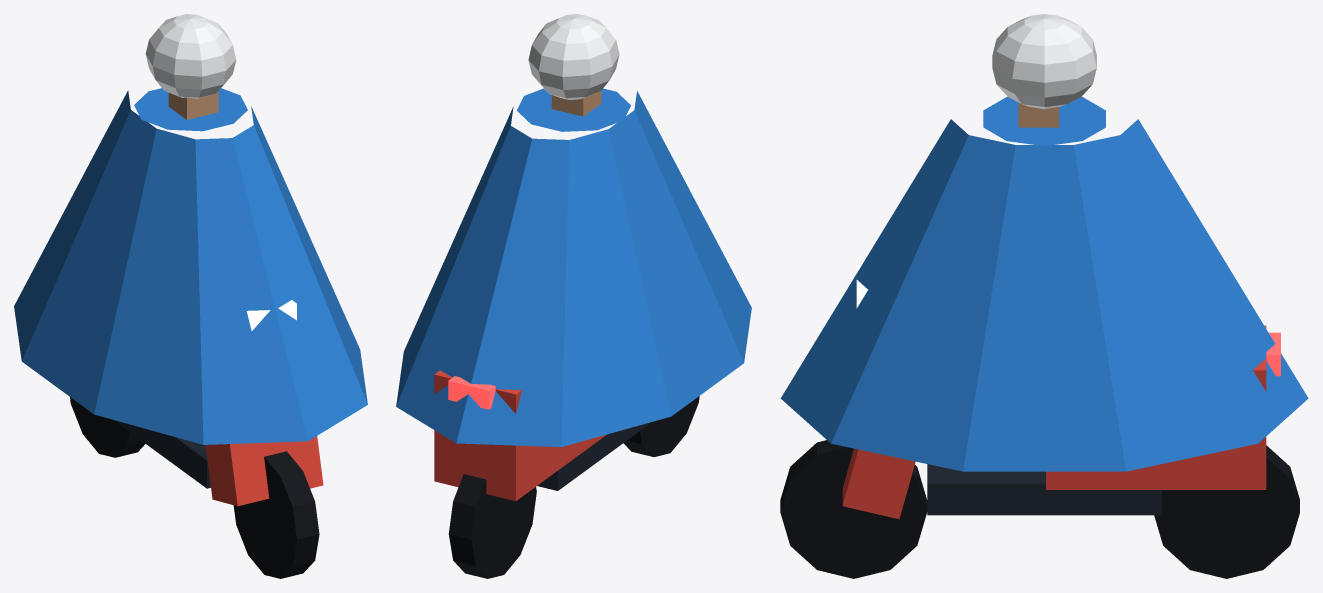
Rendered from poncho_rider_blue.glb.
The picture shows the model from 3 angles, left to right: view 1: azimuth 30°, elevation 25°; view 2: azimuth 150°, elevation 25°; view 3: azimuth 270°, elevation 25°; orthographic projection. The views are drawn at different scales.
Parts seen in each view (by area): view 1: poncho_rider; view 2: poncho_rider; view 3: poncho_rider.
Boxes of the visible parts, box(x1,y1,x2,y2) form: poncho_rider: box(14, 14, 367, 578); poncho_rider: box(396, 14, 751, 578); poncho_rider: box(780, 14, 1308, 578).
Bounding box in the file's own units: 1.18 × 2.08 × 1.8.
